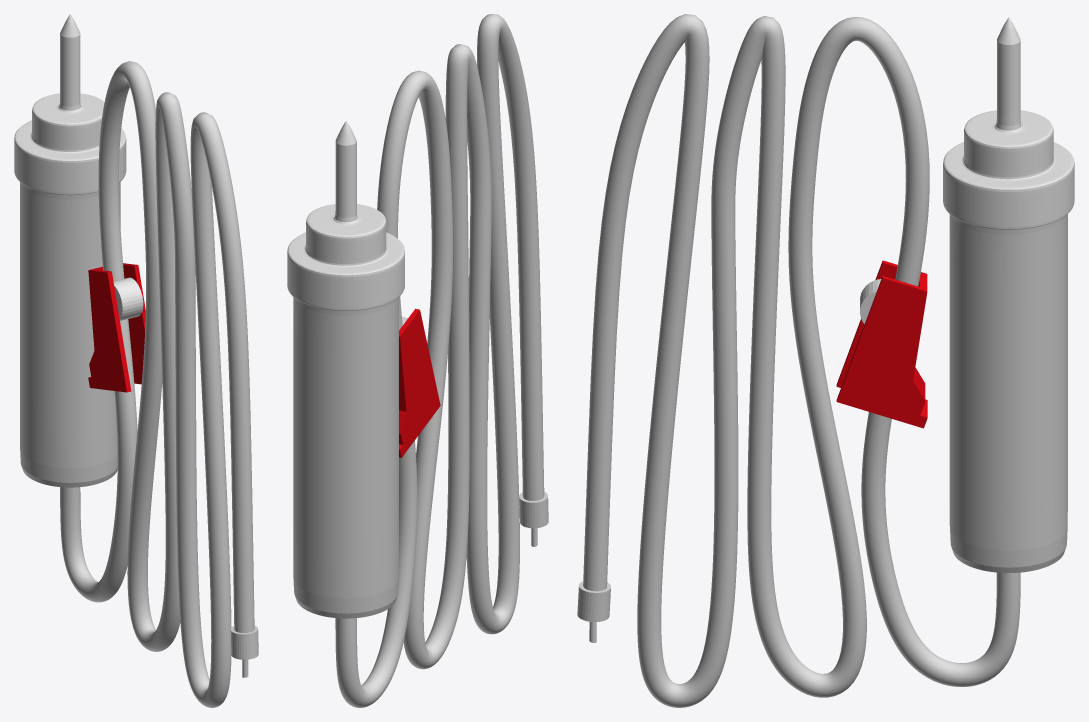
Rendered from infusion line 2 wrong.fbx.
3 renders of one model, left to right at view 1: azimuth 30°, elevation 25°; view 2: azimuth 150°, elevation 25°; view 3: azimuth 270°, elevation 25°, orthographic. The views are drawn at different scales.
Parts seen in each view (by area): view 1: Cube.002; view 2: Cube.002; view 3: Cube.002.
Part boxes in pixels (x1,y1,x2,y2): Cube.002: (14, 14, 258, 707); Cube.002: (287, 14, 548, 707); Cube.002: (577, 14, 1074, 707).
Bounding box in the file's own units: 221 × 1283 × 836.
